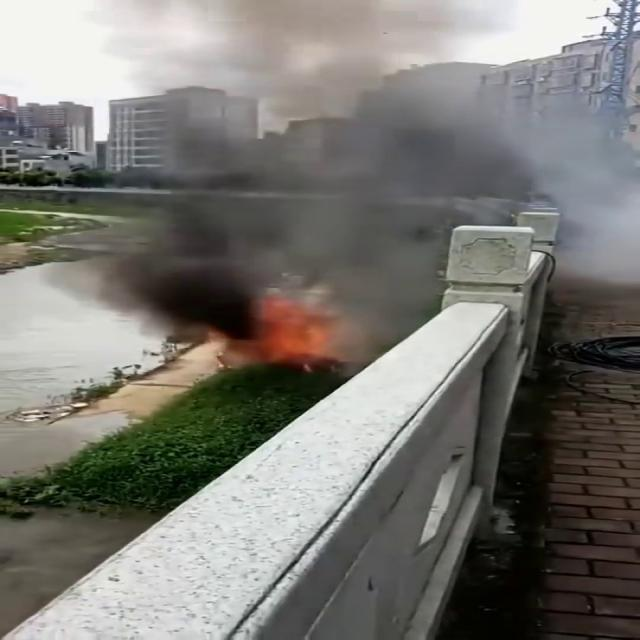Fire: (233, 280, 343, 373)
Smoke: (76, 0, 638, 337)
